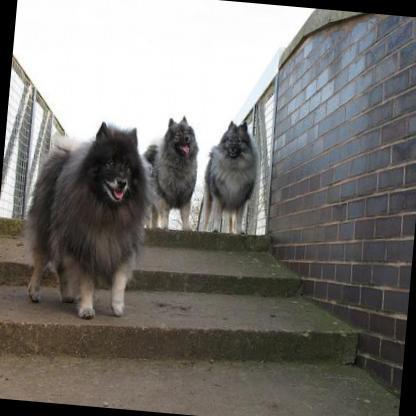keeshond: (19, 111, 162, 322), (136, 112, 202, 230), (198, 116, 262, 236)
